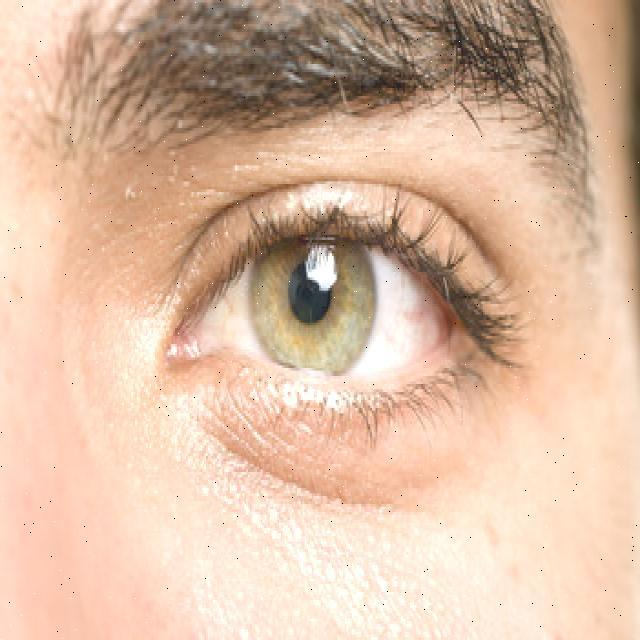Normal: (71, 84, 630, 526)
